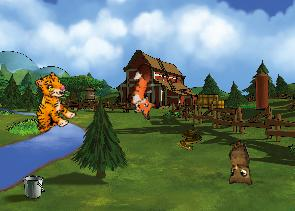fox: (120, 61, 171, 122)
owl: (216, 138, 257, 191)
tiger: (17, 69, 82, 138)
